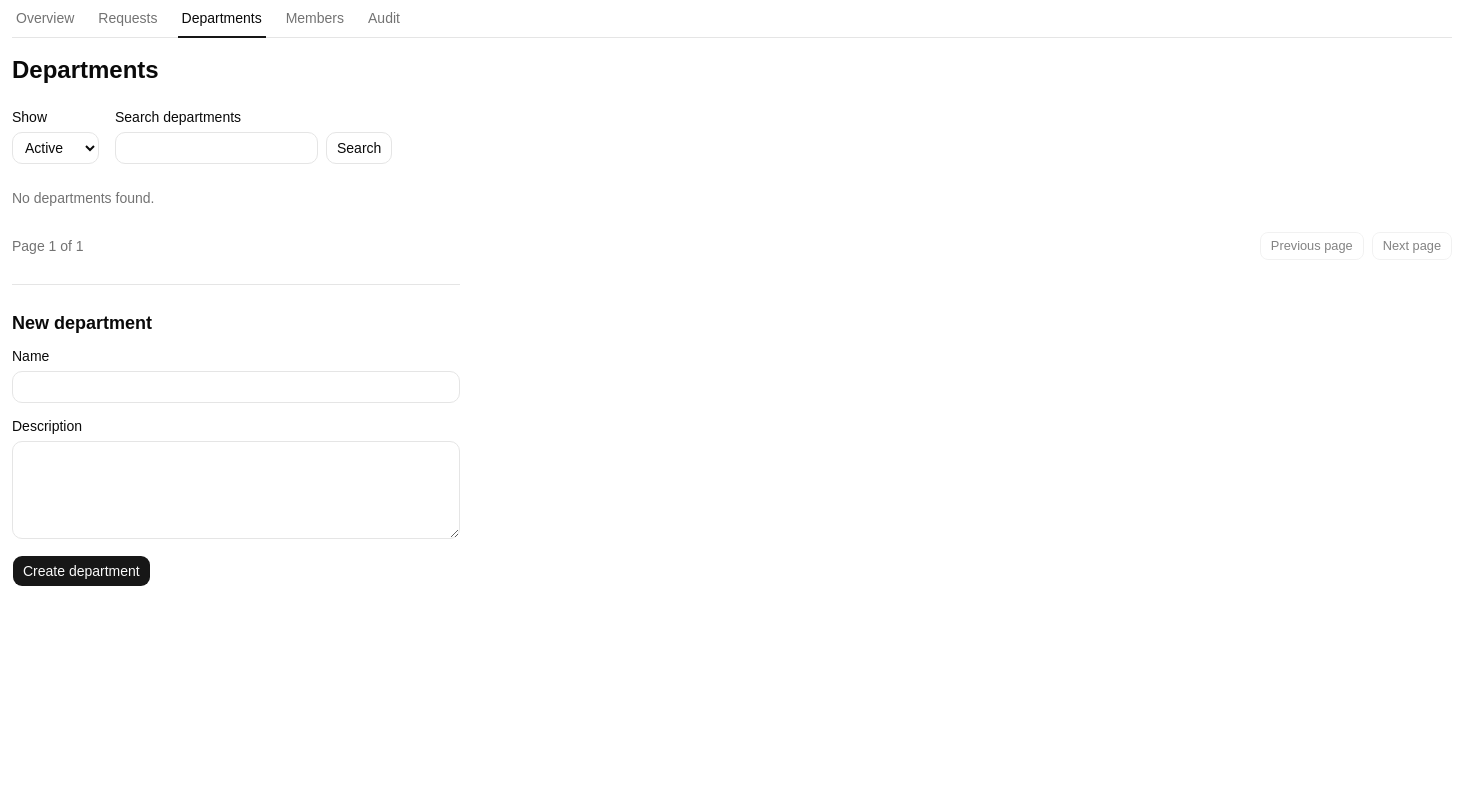
Test: DepartmentsPage › lets an admin create a department and refreshes the list
In the field labelled "Name": (236,387) x1=12 y1=371 x2=460 y2=403, type "  Finance "
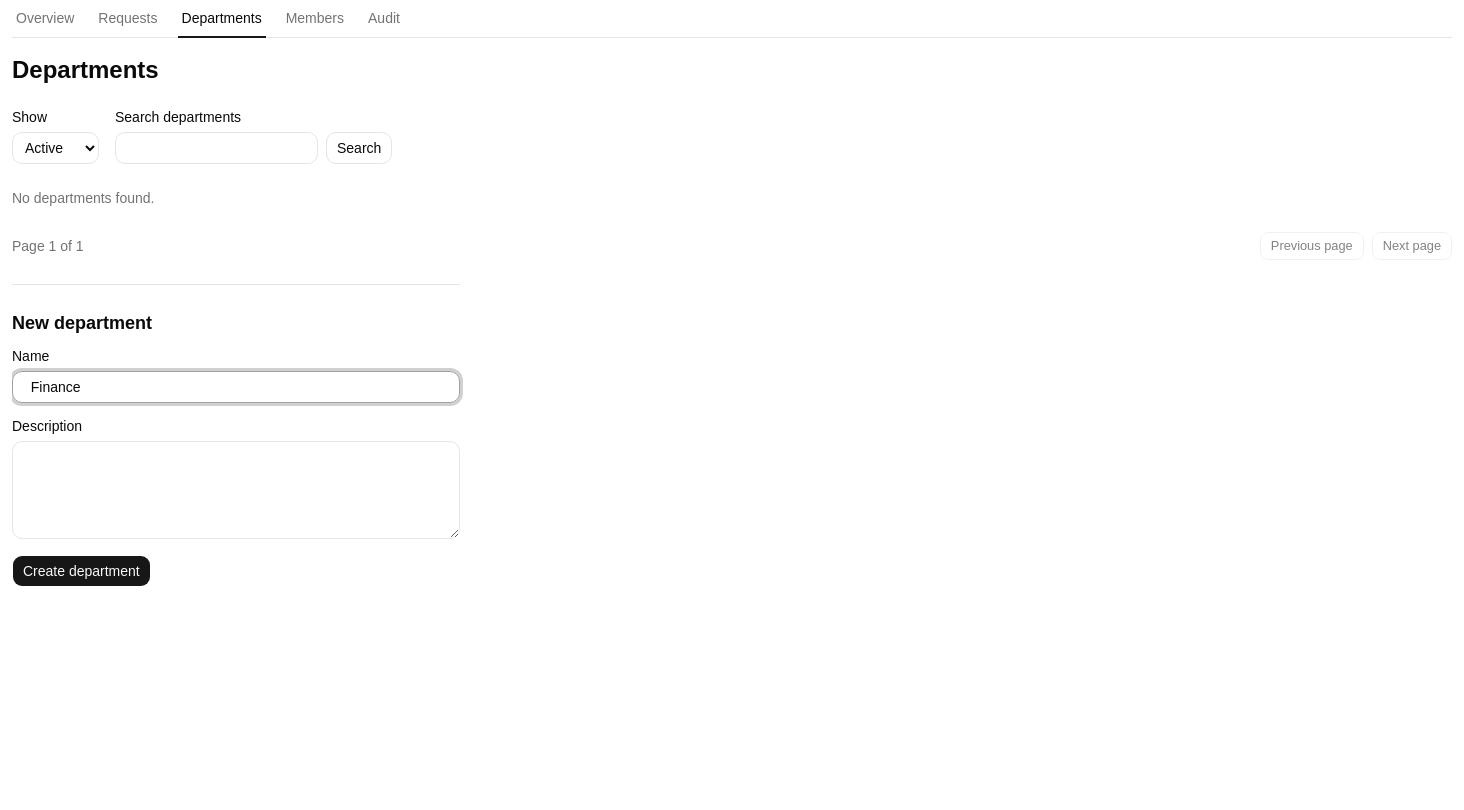
In the text box labelled "Description": (236,490) x1=12 y1=441 x2=460 y2=539, type "Money"
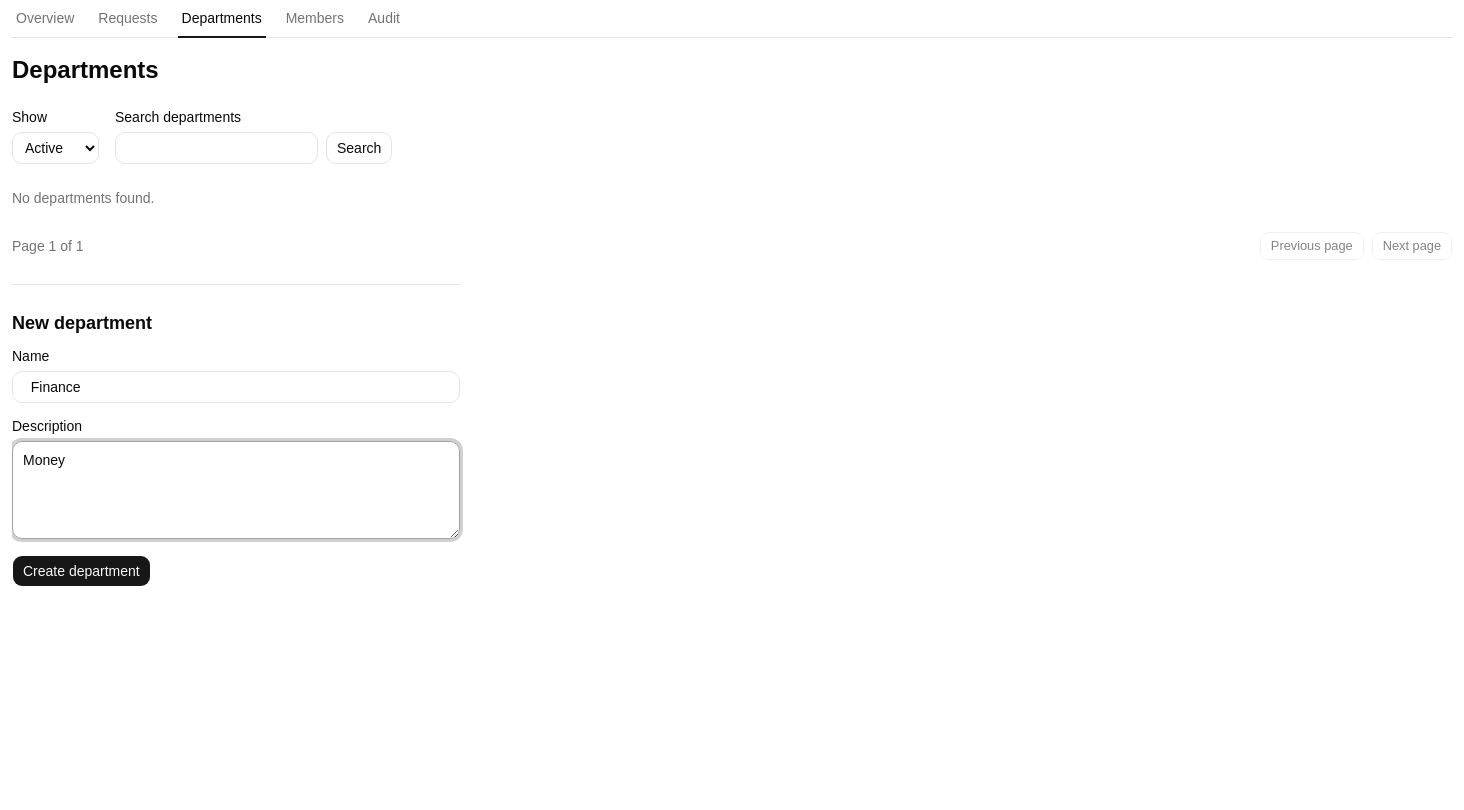
Click the button "Create department": (81,571) x1=12 y1=555 x2=151 y2=587
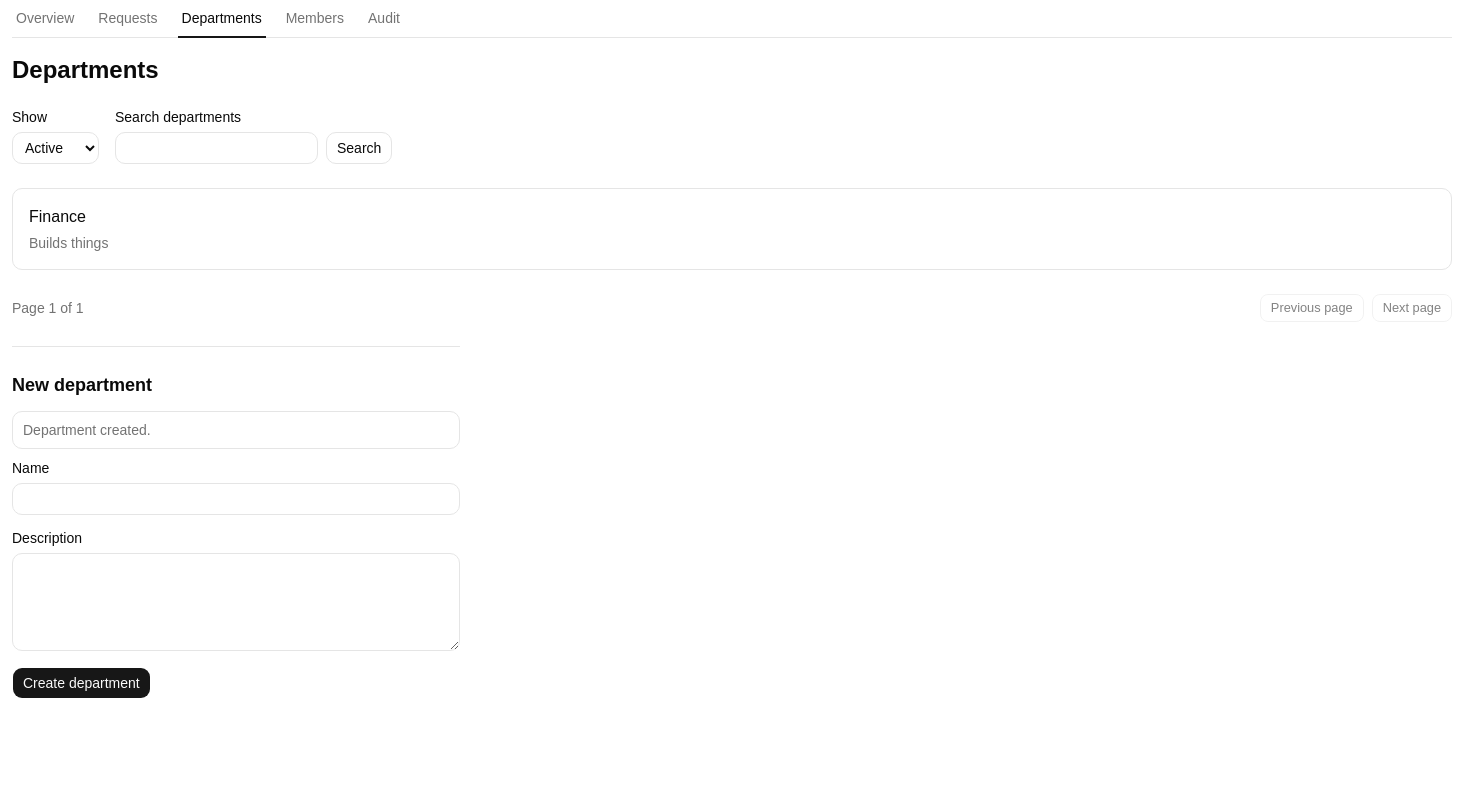
Expected: the text "Department created." is shown, x1=23 y1=422 x2=151 y2=438
Expected: the link "Finance" is shown, x1=29 y1=205 x2=86 y2=229
